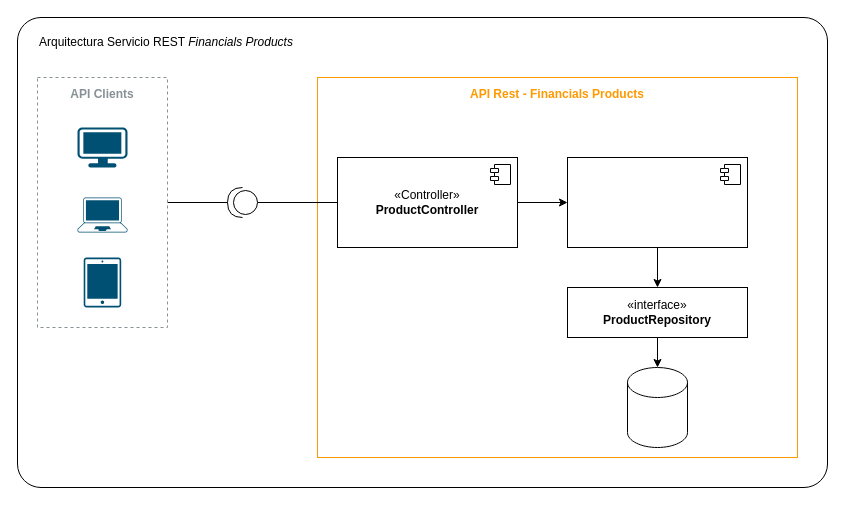
Some shapes in this 845 by 505 pixel diagram are drawn without their labels. The centre of each missing label's shape, as x and y in pixels:
Products DB: (x=657, y=407)
«Model» ProductModel: (x=657, y=202)
